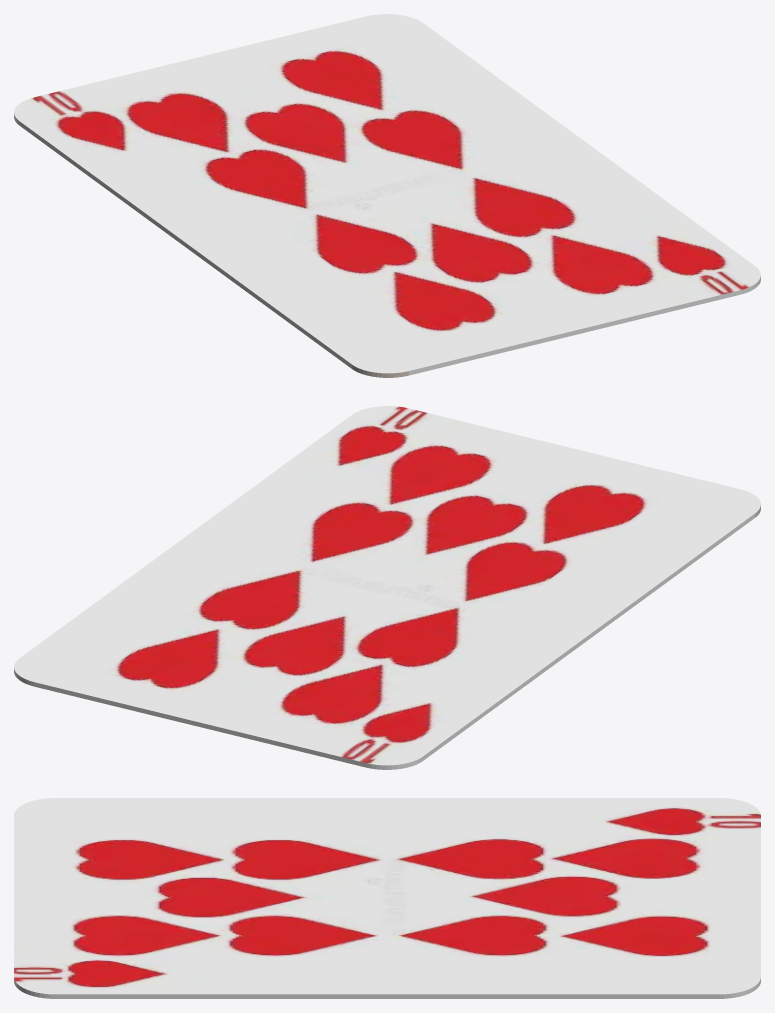
File: 10 of hearts.fbx
3 renders of one model, top to bottom at view 1: azimuth 30°, elevation 25°; view 2: azimuth 150°, elevation 25°; view 3: azimuth 270°, elevation 25°, orthographic.
Visible parts, largest first — view 1: Cube; view 2: Cube; view 3: Cube.
Boxes of the visible parts, x1,y1,x2,y2 form: Cube: [14, 14, 760, 377]; Cube: [14, 406, 760, 769]; Cube: [14, 798, 760, 998].
Size of the model in its own units: 5.6 by 0.06 by 9.
3 materials, 2 textured.
